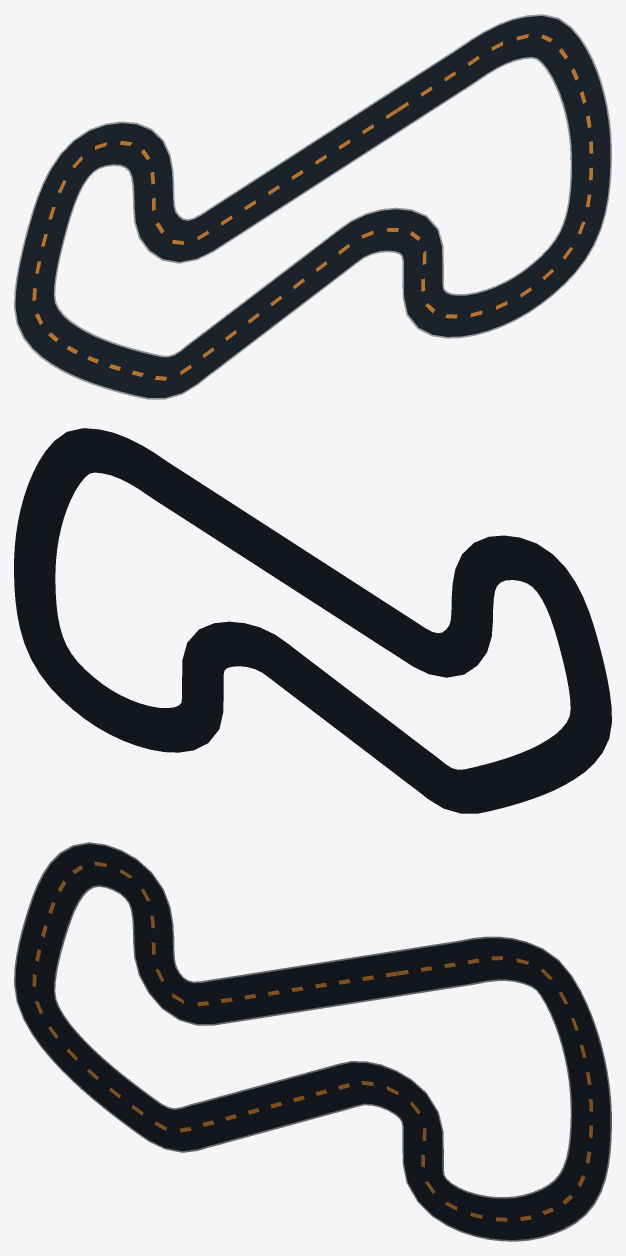
The model's file is track.obj.
3 views of the same model, one above another, from view 1: azimuth 30°, elevation 25°; view 2: azimuth 150°, elevation 25°; view 3: azimuth 330°, elevation 25° (orthographic).
Bounding box in the file's own units: 15.4 × 7.58 × 0.002.
